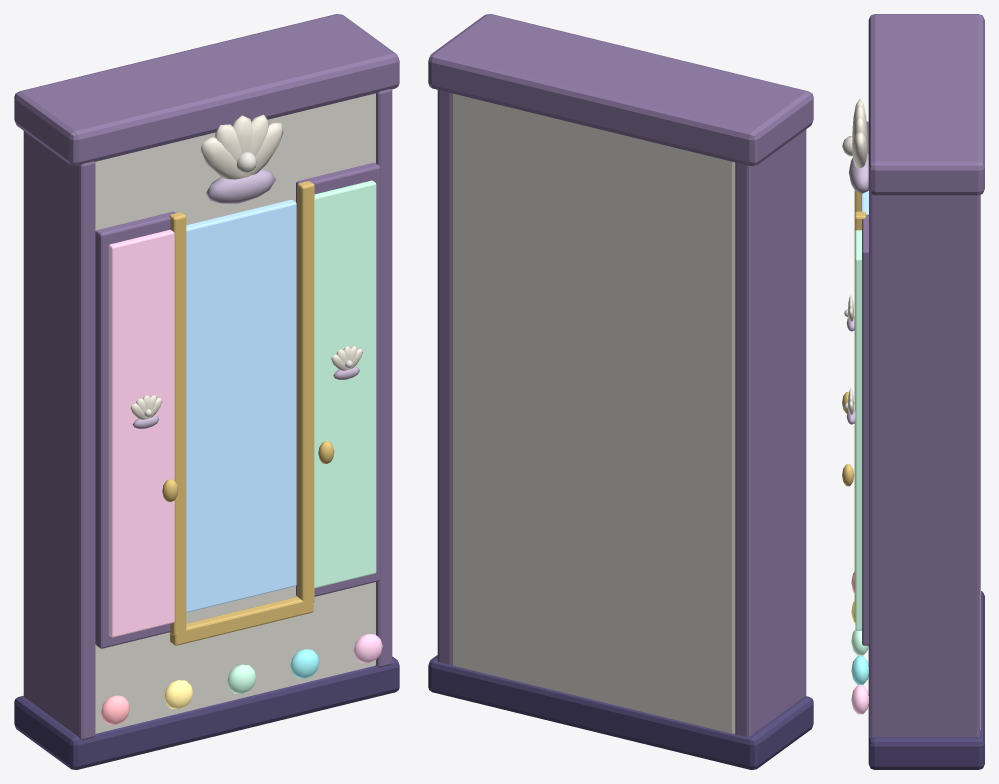
The model's file is pearl_shell_wardrobe.glb.
The picture shows the model from 3 angles, left to right: view 1: azimuth 30°, elevation 25°; view 2: azimuth 150°, elevation 25°; view 3: azimuth 270°, elevation 25°; orthographic projection. The views are drawn at different scales.
Parts seen in each view (by area): view 1: pearl_shell_wardrobe.001; view 2: pearl_shell_wardrobe.001; view 3: pearl_shell_wardrobe.001.
Part boxes in pixels (x1=…): pearl_shell_wardrobe.001: x1=14, y1=14, x2=399, y2=769; pearl_shell_wardrobe.001: x1=428, y1=14, x2=813, y2=769; pearl_shell_wardrobe.001: x1=842, y1=14, x2=984, y2=769.
Size of the model in its own units: 7.1 by 13.14 by 2.8.
